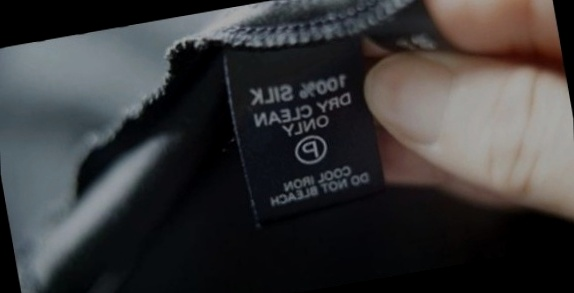dry_clean_any_solvent_except_trichloroethylene: (290, 131, 329, 167)
